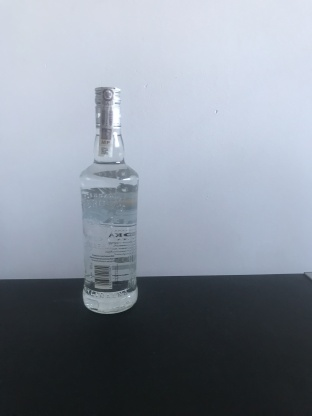nakretka: (92, 82, 124, 132)
